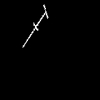double_crochet: (23, 5, 47, 46)
